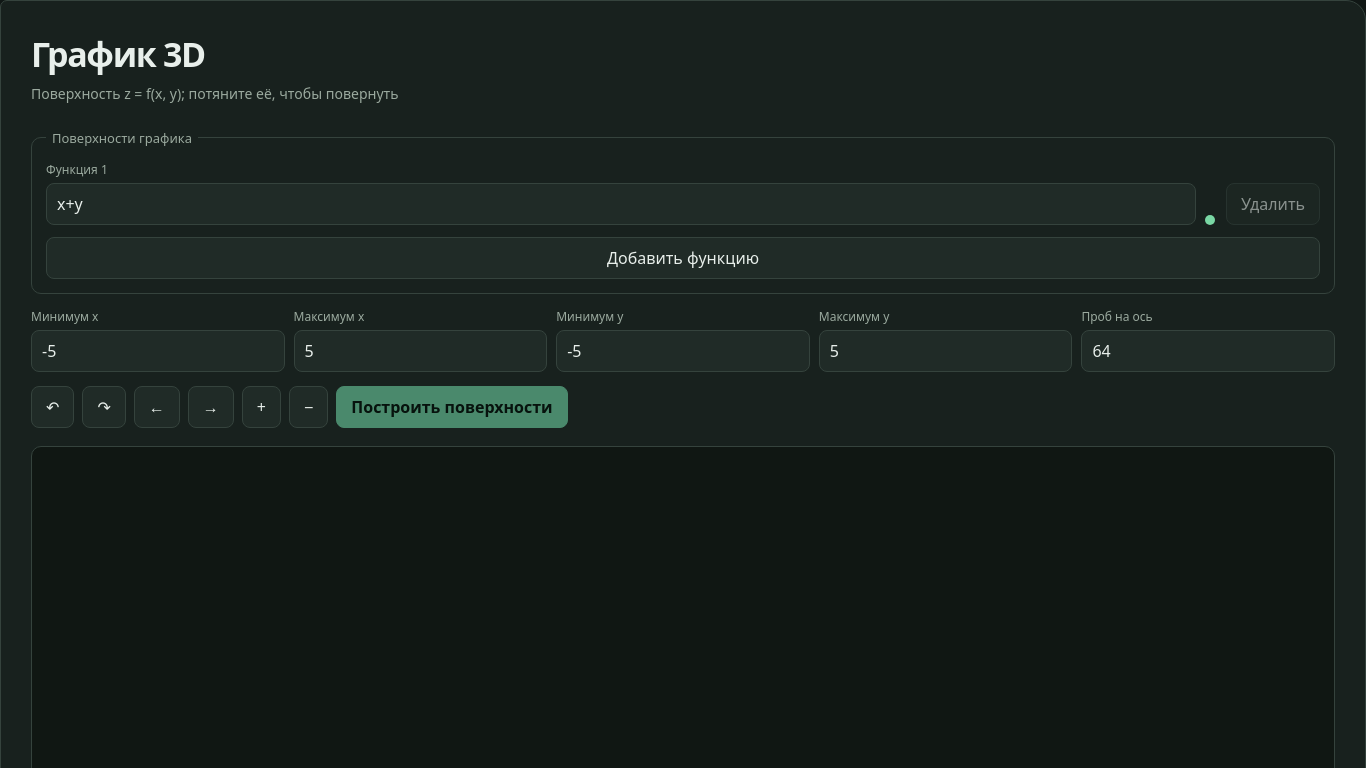
Test case: Graph3DView › supports multiple surfaces and saves their ranges to local history
expect the number field named "Разрешение поверхности" holds "64": met, box [1081,330,1335,372]
Click the button "Добавить функцию": (683, 258) [46,237,1320,279]
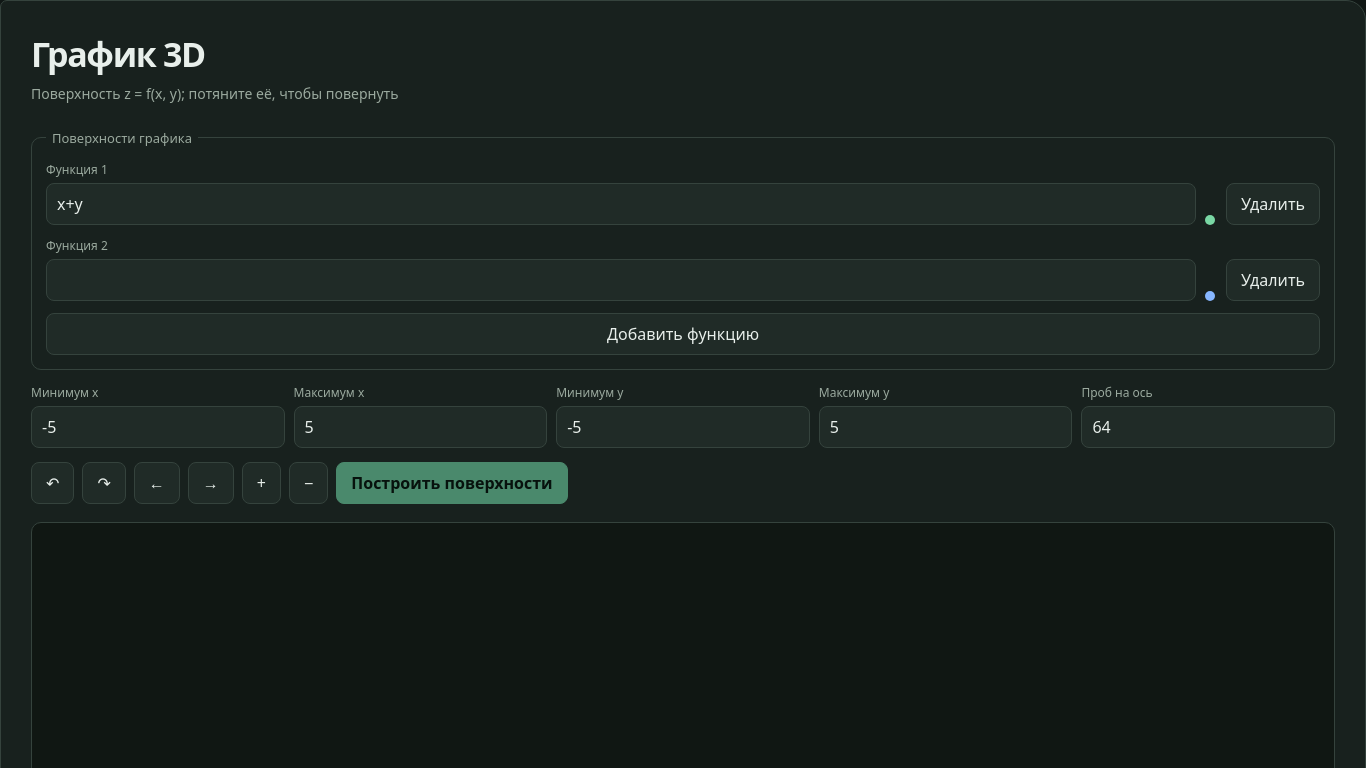
In the field labelled "Функция 2": (621, 280) [46,259,1196,301], type "x-y"
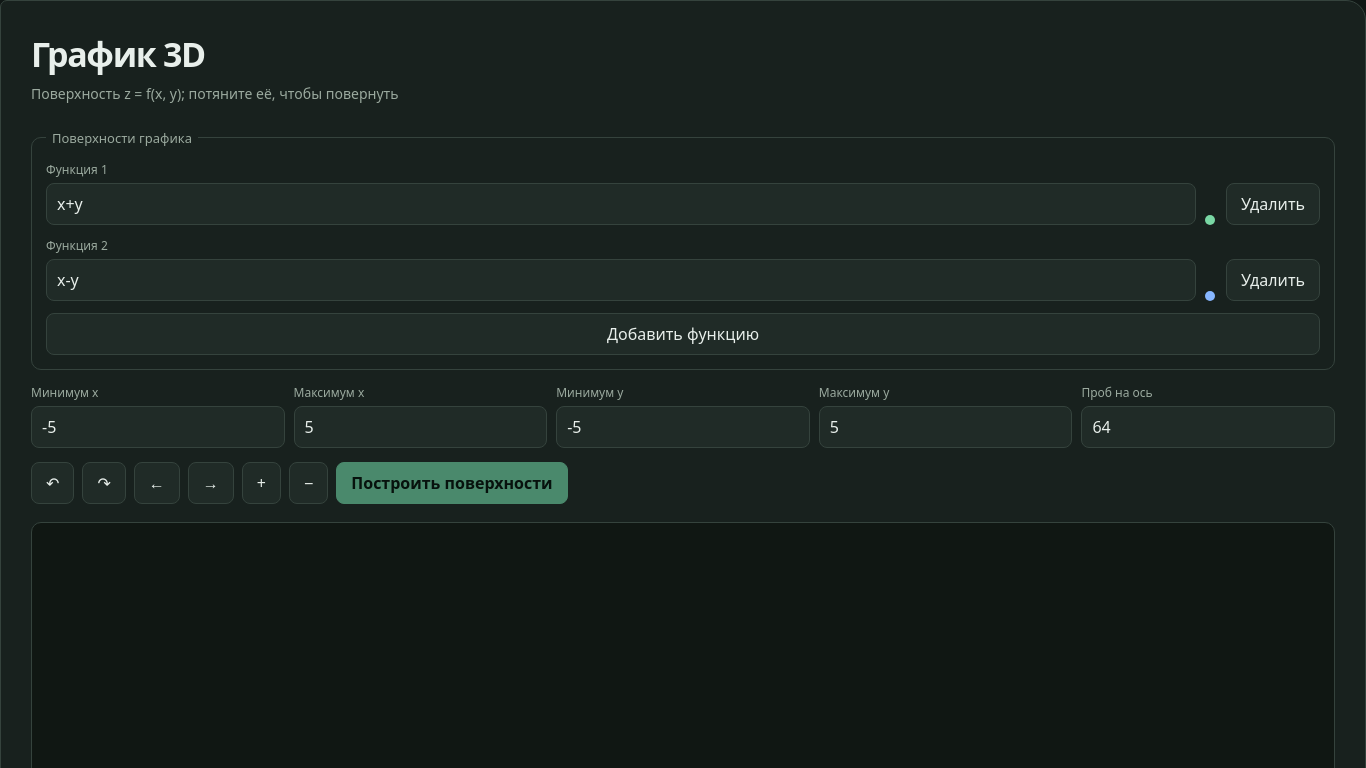
Click the button "Построить поверхности": (452, 483) [336,462,568,504]
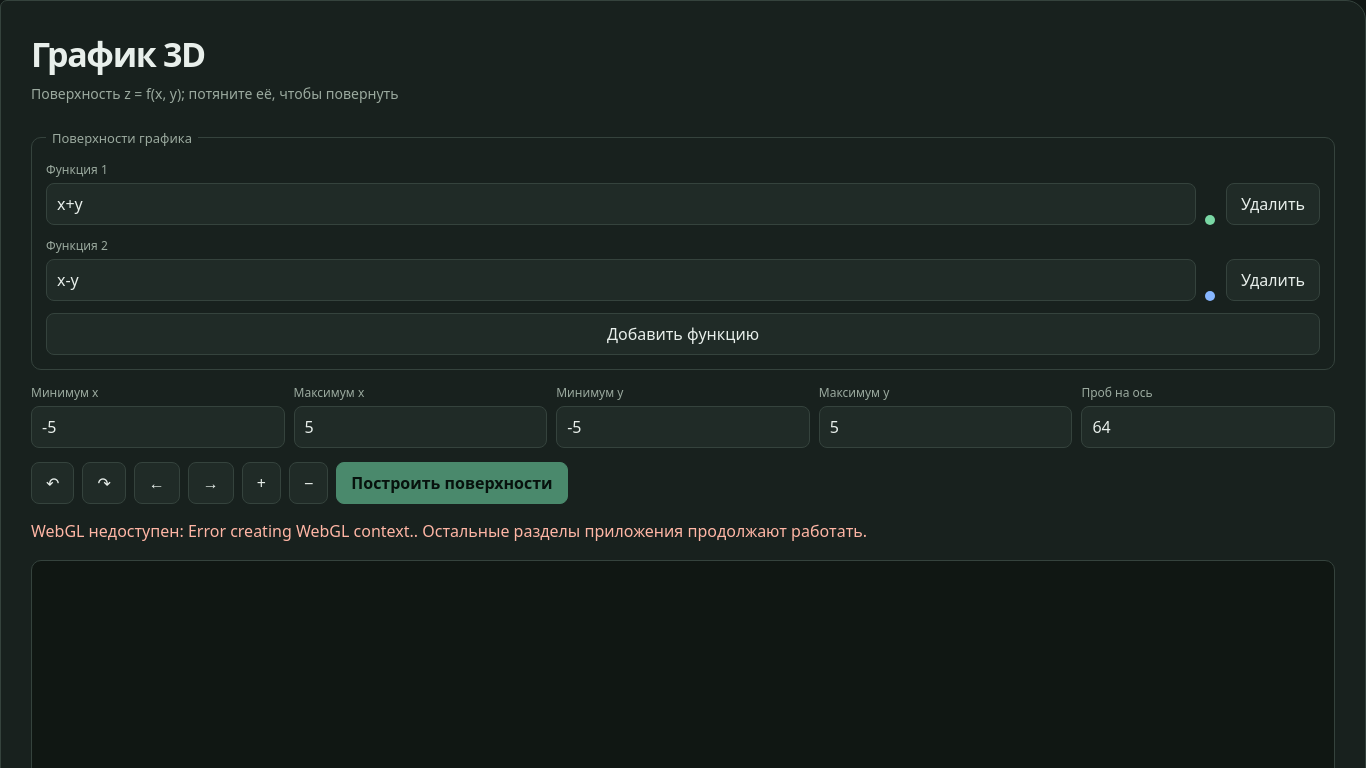
expect the message shows "WebGL": met, box [31,520,867,542]
